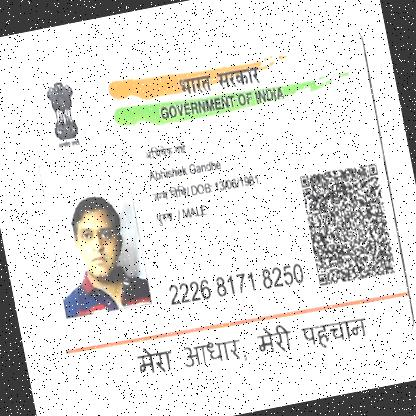aadhaar_card: (0, 0, 415, 407)
